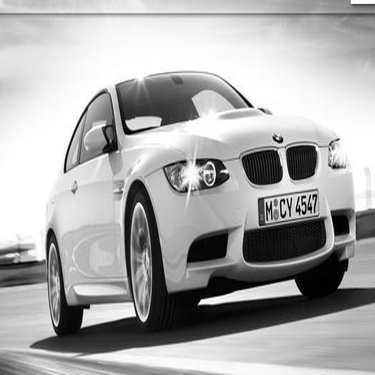car: (32, 60, 364, 338)
